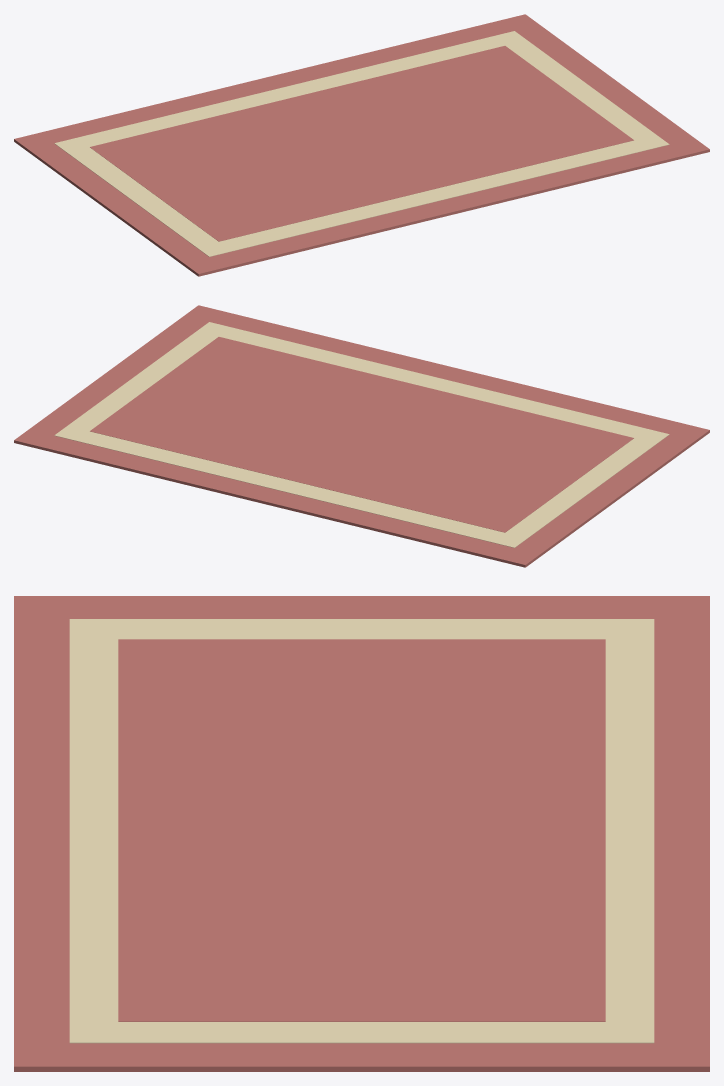
Rendered from rug_rect.glb.
3 views of the same model, one above another, from view 1: azimuth 30°, elevation 25°; view 2: azimuth 150°, elevation 25°; view 3: azimuth 270°, elevation 25° (orthographic). The views are drawn at different scales.
Visible parts, largest first — view 1: rug_rect; view 2: rug_rect; view 3: rug_rect.
Boxes of the visible parts, x1,y1,x2,y2 form: rug_rect: [14, 14, 709, 276]; rug_rect: [14, 305, 709, 567]; rug_rect: [14, 596, 709, 1071].
Size of the model in its own units: 1.6 by 0.0095 by 1.
